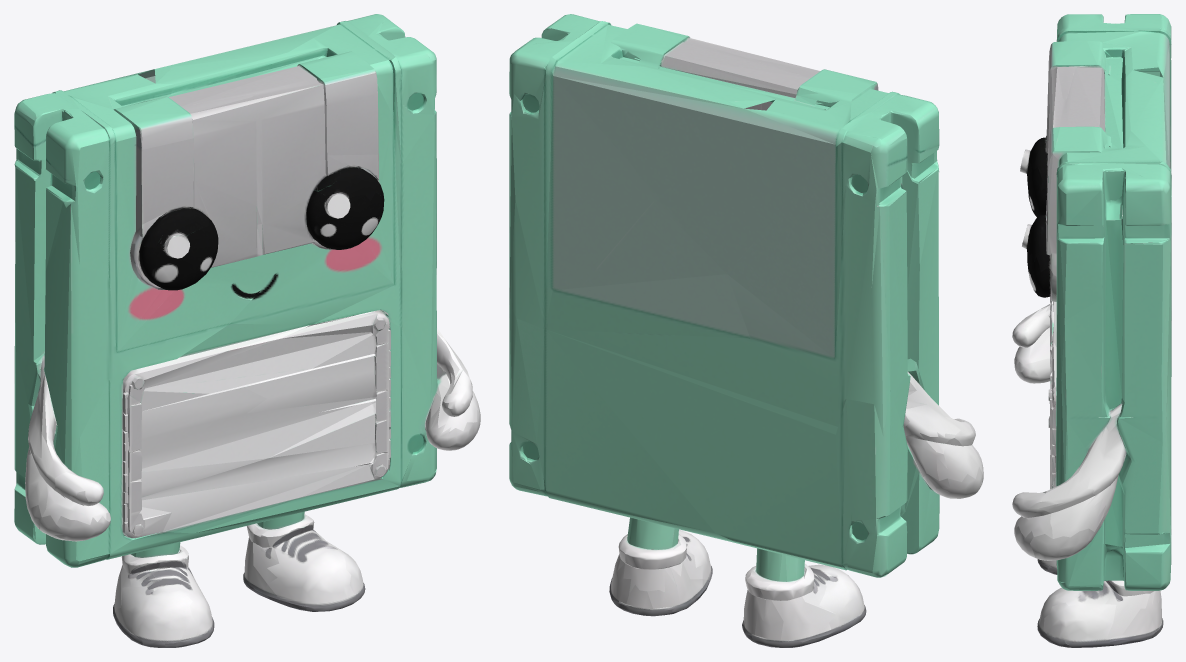
File: CleanLog.fbx
The picture shows the model from 3 angles, left to right: view 1: azimuth 30°, elevation 25°; view 2: azimuth 150°, elevation 25°; view 3: azimuth 270°, elevation 25°; orthographic projection. The views are drawn at different scales.
Visible parts, largest first — view 1: output_unwrapped; view 2: output_unwrapped; view 3: output_unwrapped.
Part boxes in pixels (x1,y1,x2,y2): output_unwrapped: [14, 14, 480, 647]; output_unwrapped: [509, 14, 983, 647]; output_unwrapped: [1012, 14, 1171, 647].
Bounding box in the file's own units: 87.78 × 100 × 28.71.
1 material, 1 textured.
